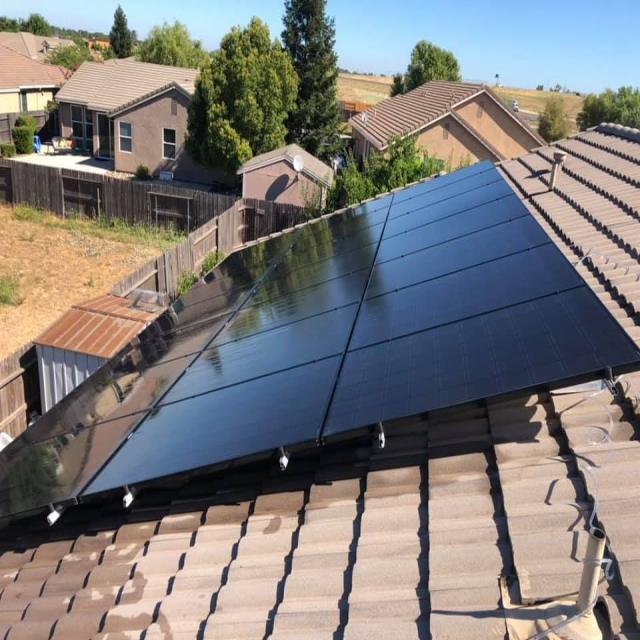clean-solar-panel: (0, 162, 640, 525)
